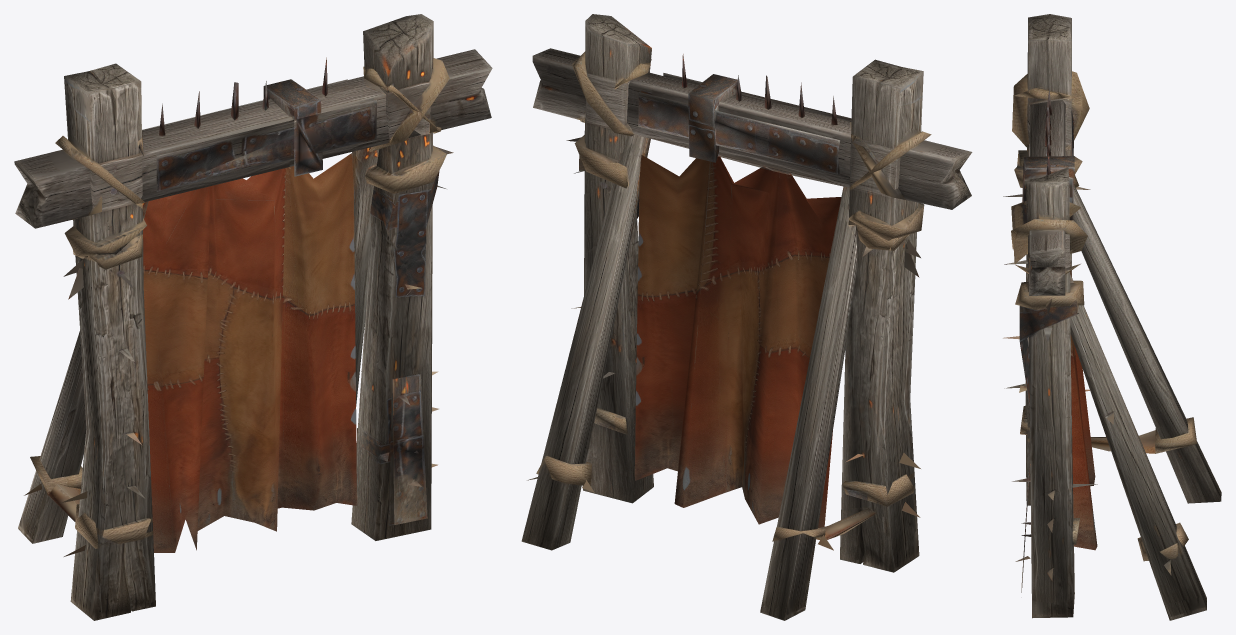
Rendered from goblin-doorframe.glb.
3 renders of one model, left to right at view 1: azimuth 30°, elevation 25°; view 2: azimuth 150°, elevation 25°; view 3: azimuth 270°, elevation 25°, orthographic. The views are drawn at different scales.
Size of the model in its own units: 0.9129 by 1 by 0.4319.
1 material, 1 textured.
